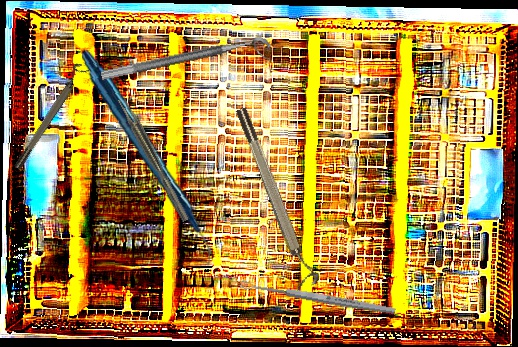Fixation Ring: (232, 103, 322, 291), (100, 34, 274, 95), (8, 60, 90, 172)
Handpiece: (67, 49, 225, 268)
Surgical Spoon: (239, 278, 397, 317)
Tissue Forceps: (116, 95, 190, 225)
